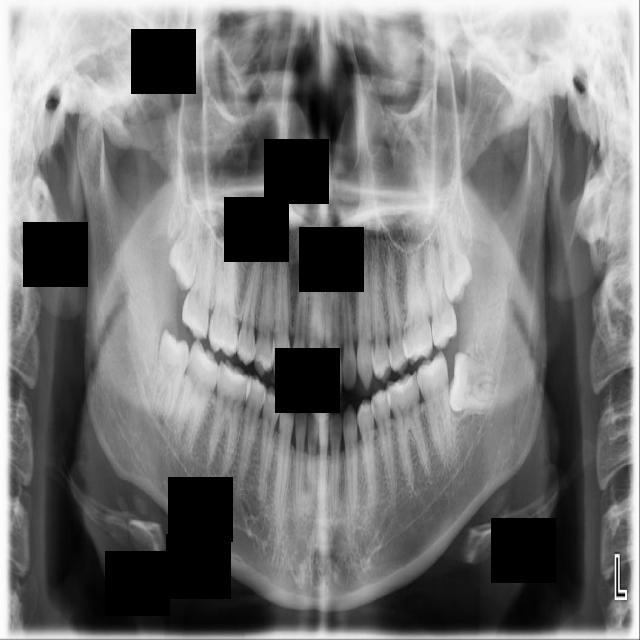3M ESPE Implant: (163, 193, 210, 291)
73: (606, 561, 610, 571)
BioHorizons Implant: (423, 240, 460, 351)
BioLife Implant: (438, 210, 475, 305)
Biomet 3i Implant: (447, 352, 501, 418)
Blue Sky Bio Implant: (415, 354, 457, 465)
Caries: (180, 221, 220, 342)
Implant: (171, 338, 226, 450)
Keystone Dental Implant: (148, 330, 195, 423)
